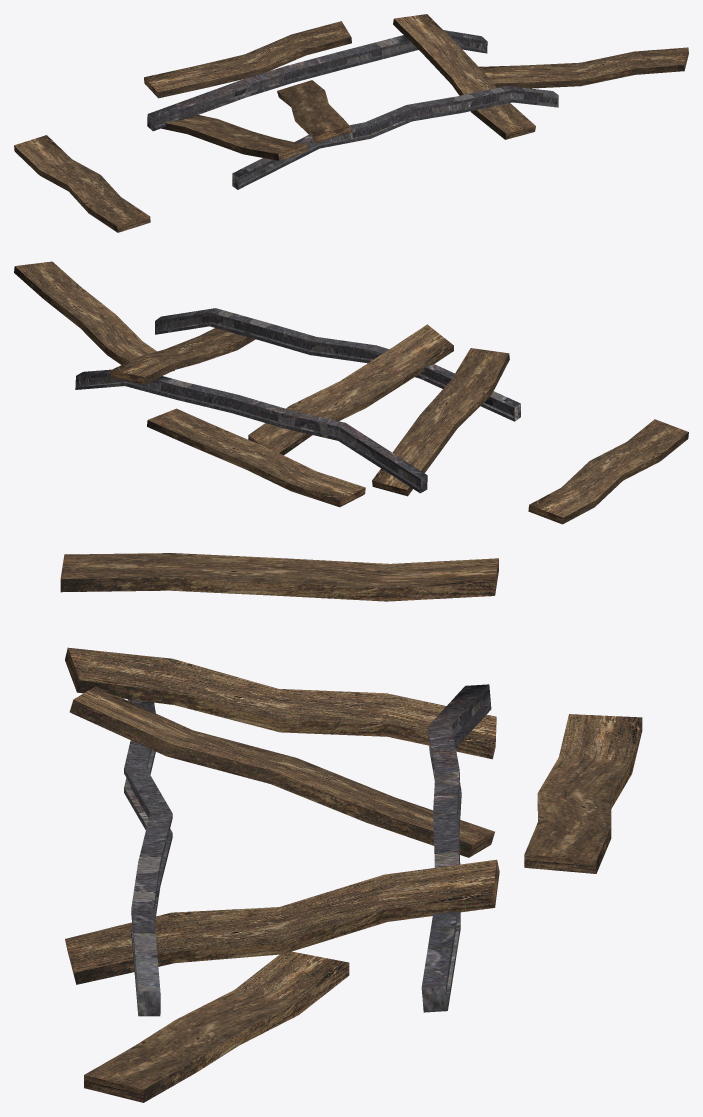
The model's file is broken_rails2.fbx.
3 views of the same model, one above another, from view 1: azimuth 30°, elevation 25°; view 2: azimuth 150°, elevation 25°; view 3: azimuth 270°, elevation 25° (orthographic). The views are drawn at different scales.
Visible parts, largest first — view 1: planks, rails; view 2: planks, rails; view 3: planks, rails.
Part boxes in pixels (box(x1,y1,x2,y2)): planks: box(14, 14, 688, 232); rails: box(147, 30, 558, 189); planks: box(14, 261, 688, 524); rails: box(75, 308, 520, 493); planks: box(60, 553, 642, 1102); rails: box(124, 684, 491, 1016).
Size of the model in its own units: 9935 by 920 by 4219.
2 materials, 2 textured.
